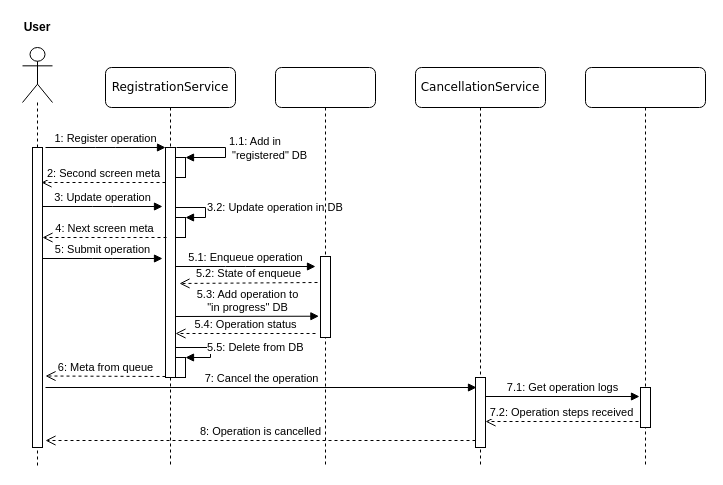
Some shapes in this 723 by 485 pixel diagram are drawn without their labels. Here are the shapes that lost their labels. From the top down, the box of each, then its label:
(274, 66, 376, 468): QueueService
(584, 66, 706, 468): OperationsService
